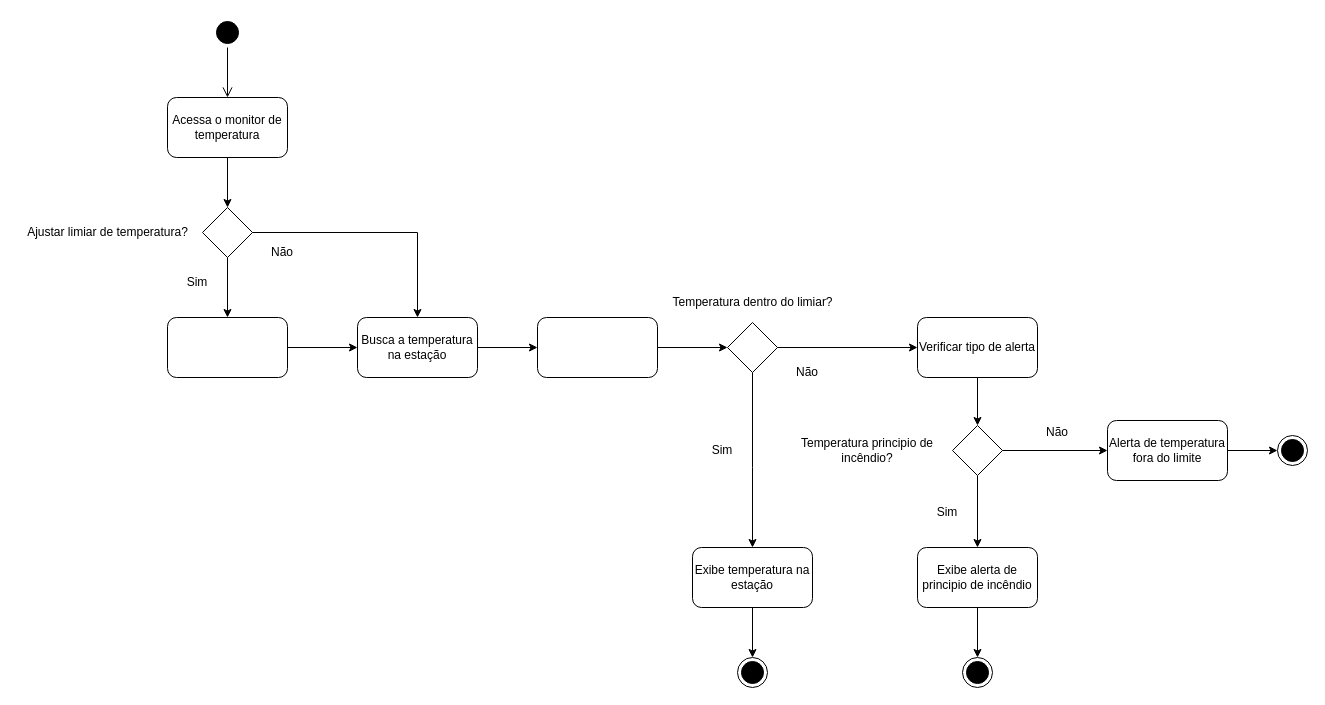
This 1325x705 diagram has some shape labels left out. Here are the shapes that lost their labels. From the top down, the centre of each, then its label:
[227,347]: Ajusta o limiar de temperatura
[597,347]: Verifica temperatura na estação
